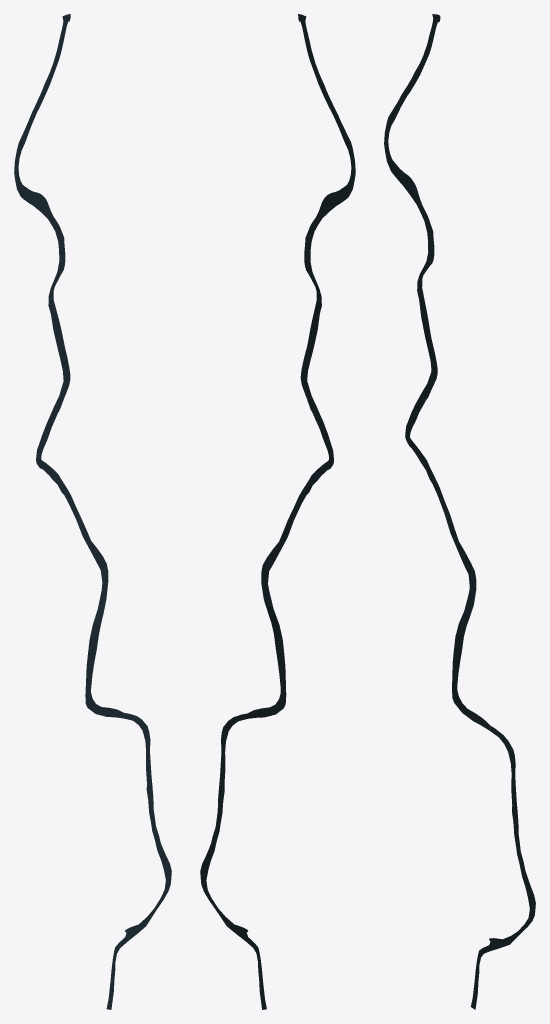
File: Trk_Ground_water.fbx
The picture shows the model from 3 angles, left to right: view 1: azimuth 30°, elevation 25°; view 2: azimuth 150°, elevation 25°; view 3: azimuth 330°, elevation 25°; orthographic projection. The views are drawn at different scales.
Visible parts, largest first — view 1: Trk_Ground_water; view 2: Trk_Ground_water; view 3: Trk_Ground_water.
Part boxes in pixels (x1=…): Trk_Ground_water: x1=14, y1=14, x2=171, y2=1009; Trk_Ground_water: x1=200, y1=14, x2=355, y2=1009; Trk_Ground_water: x1=384, y1=14, x2=535, y2=1009.
Size of the model in its own units: 36110 by 1008 by 221521.
